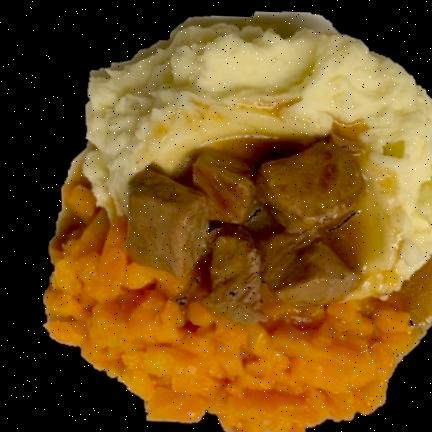carrot: (44, 177, 426, 431)
meat: (126, 135, 365, 324)
potato: (81, 11, 431, 296)
